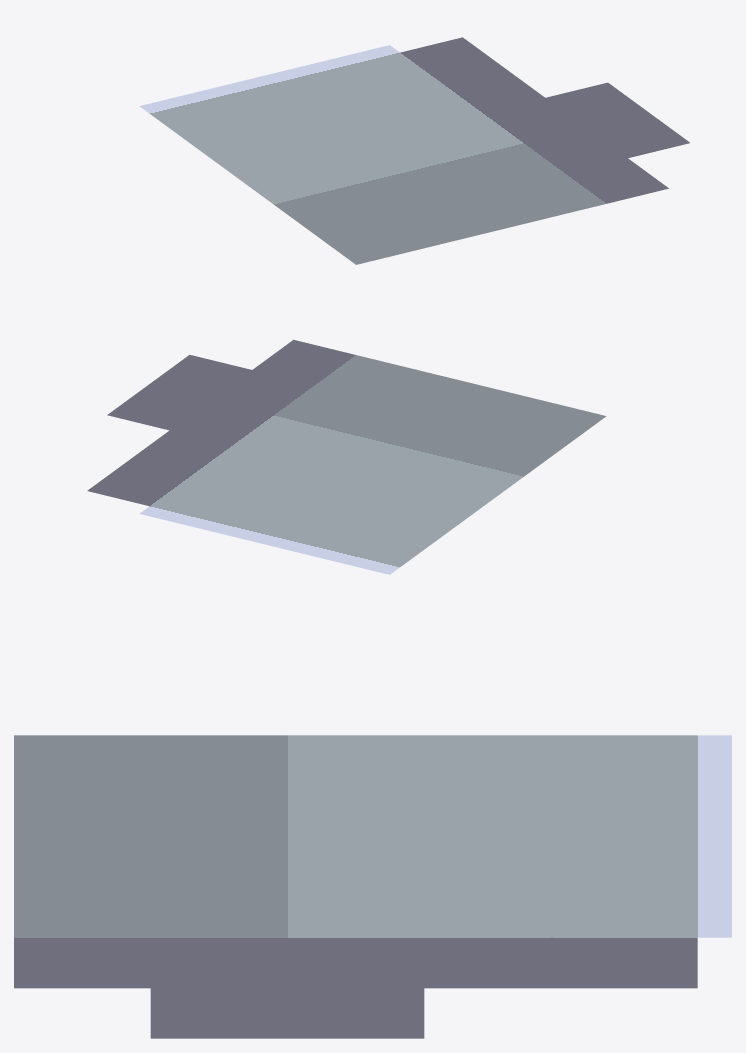
3 renders of one model, top to bottom at view 1: azimuth 30°, elevation 25°; view 2: azimuth 150°, elevation 25°; view 3: azimuth 270°, elevation 25°, orthographic. The views are drawn at different scales.
Bounding box in the file's own units: 0.5 × 0 × 0.375.
Materials: 1 (1 with a texture image).
